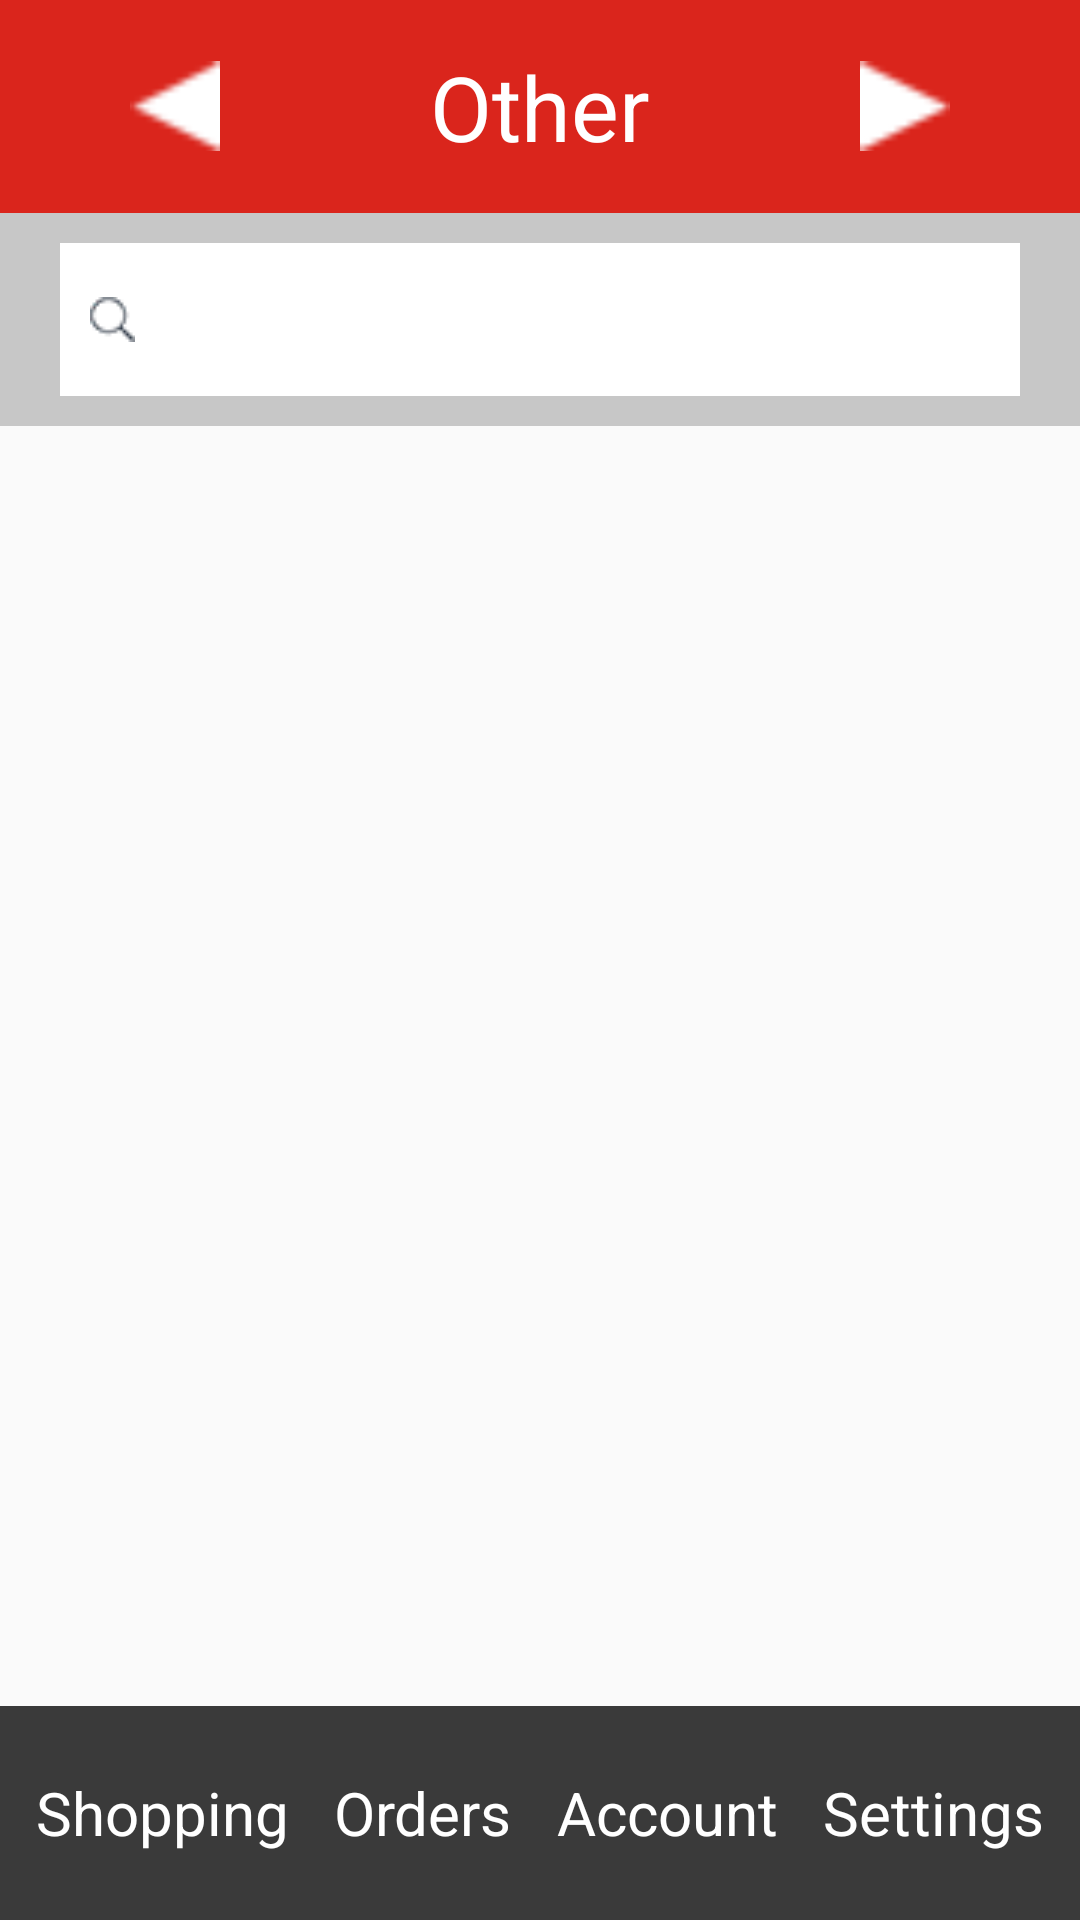

Icon click points for this 1080px x 1920px phone screenshot, format (x,y):
leftarrow: (175,106)
right arrow: (905,106)
